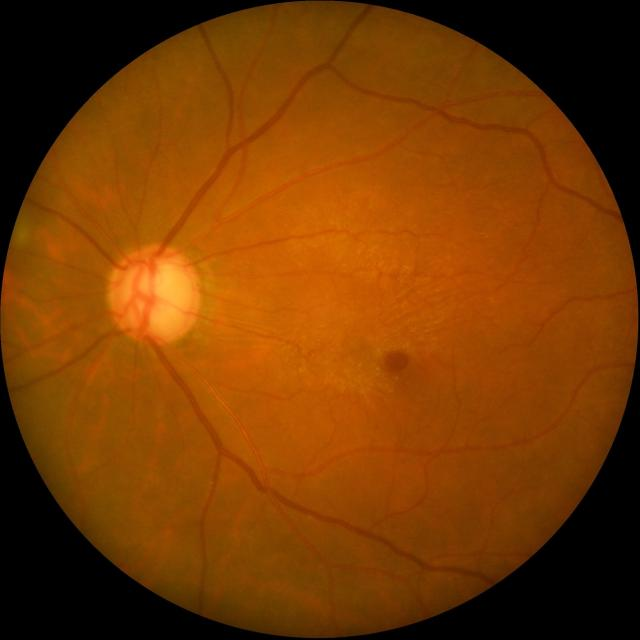OC: (128, 264, 190, 336)
OD: (107, 245, 203, 344)
